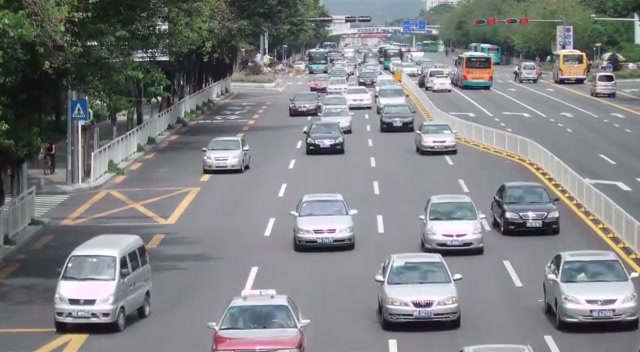bus: (450, 52, 494, 89)
car: (52, 233, 153, 333), (542, 250, 640, 332), (374, 252, 463, 331), (206, 290, 311, 352), (418, 193, 487, 256), (288, 193, 358, 253), (489, 181, 561, 236), (202, 136, 252, 173), (414, 122, 458, 155), (318, 94, 353, 135), (304, 122, 345, 156), (379, 103, 415, 132), (375, 86, 407, 114), (288, 92, 320, 117), (591, 72, 617, 98), (345, 86, 373, 110), (458, 344, 534, 352)
truck: (552, 49, 588, 84), (514, 61, 540, 83)
